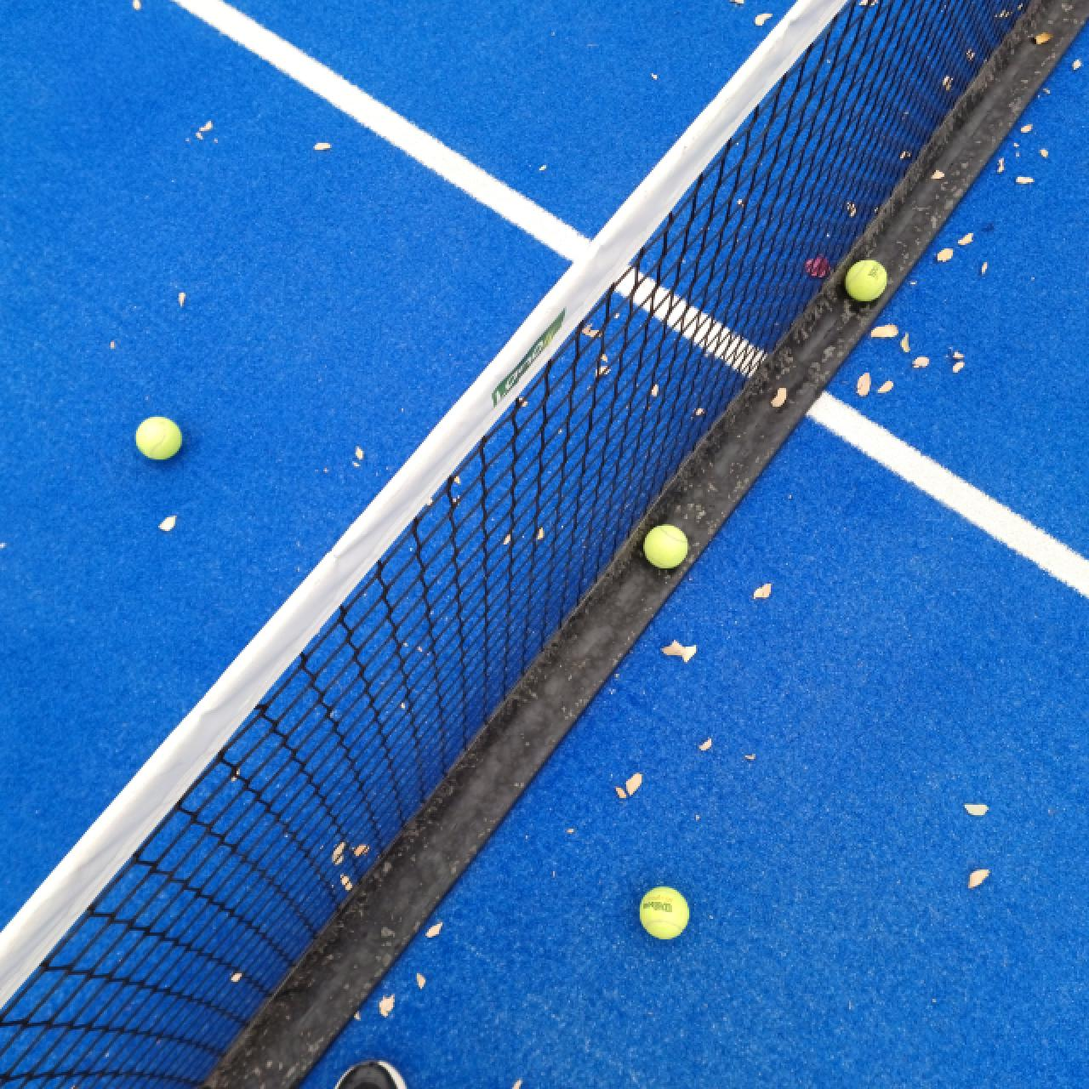tennis-ball: (639, 883, 692, 942), (131, 413, 184, 464), (642, 523, 688, 571), (843, 258, 888, 302)
